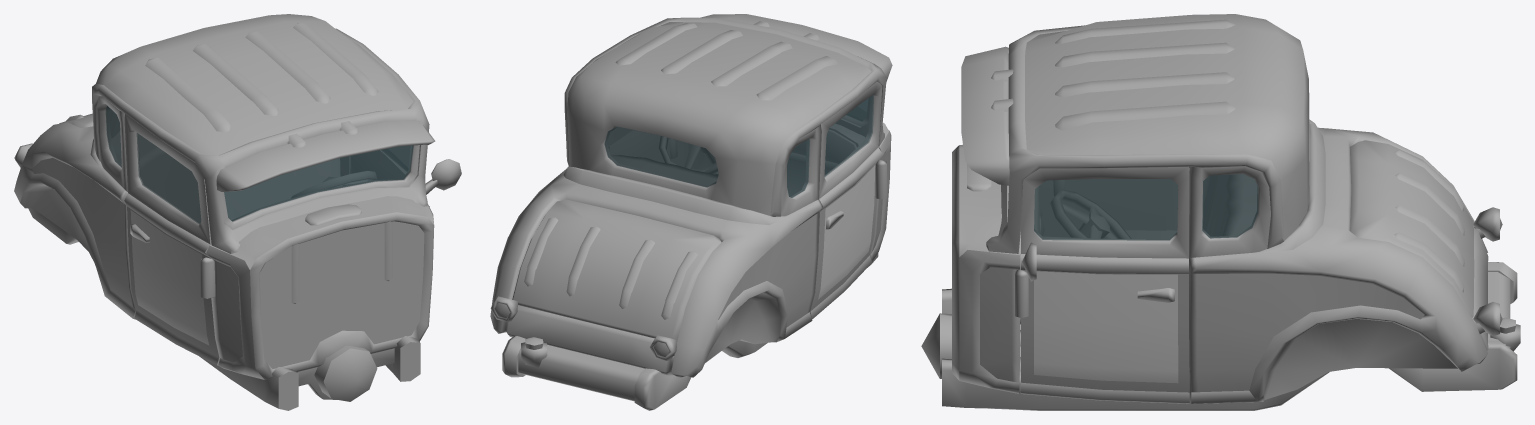
Rendered from Body_Hotster.fbx.
3 views of the same model, side by side, from view 1: azimuth 30°, elevation 25°; view 2: azimuth 150°, elevation 25°; view 3: azimuth 270°, elevation 25° (orthographic). The views are drawn at different scales.
Visible parts, largest first — view 1: Hotster_Body_Mesh, Hotster_Roof_Mesh, Hotster_Roof_Windows_Mesh, Hotster_Roof_Cap_Mesh, Hotster_Door_Right_Decal_Mesh, Hotster_Door_Right_Bottom_Mesh, Hotster_Door_Right_Top_Mesh, Hotster_Door_Right_Window_Mesh, Hotster_Door_Left_Bottom_Mesh, Body_SteerWheel_Mesh, Hotster_Door_Left_Top_Mesh; view 2: Hotster_Body_Mesh, Hotster_Roof_Mesh, Hotster_Roof_Windows_Mesh, Hotster_Door_Right_Decal_Mesh, Hotster_Door_Right_Bottom_Mesh, Hotster_Door_Right_Top_Mesh, Hotster_Door_Right_Window_Mesh, Hotster_Roof_Cap_Mesh, Hotster_Door_Left_Bottom_Mesh, Body_SteerWheel_Mesh; view 3: Hotster_Body_Mesh, Hotster_Roof_Mesh, Hotster_Door_Left_Decal_Mesh, Hotster_Door_Left_Bottom_Mesh, Hotster_Door_Left_Window_Mesh, Hotster_Door_Left_Top_Mesh, Hotster_Roof_Cap_Mesh, Hotster_Door_Right_Bottom_Mesh, Hotster_Roof_Windows_Mesh, Body_SteerWheel_Mesh.
Part boxes in pixels (left/top/right/bottom): Hotster_Body_Mesh: left=14, top=113, right=434, bottom=410; Hotster_Roof_Mesh: left=92, top=14, right=429, bottom=253; Hotster_Roof_Windows_Mesh: left=105, top=105, right=413, bottom=221; Hotster_Roof_Cap_Mesh: left=216, top=120, right=435, bottom=191; Hotster_Door_Right_Decal_Mesh: left=130, top=210, right=209, bottom=345; Hotster_Door_Right_Bottom_Mesh: left=124, top=193, right=219, bottom=365; Hotster_Door_Right_Top_Mesh: left=124, top=114, right=211, bottom=244; Hotster_Door_Right_Window_Mesh: left=136, top=133, right=201, bottom=224; Hotster_Door_Left_Bottom_Mesh: left=350, top=153, right=461, bottom=194; Body_SteerWheel_Mesh: left=291, top=171, right=376, bottom=197; Hotster_Door_Left_Top_Mesh: left=368, top=150, right=406, bottom=178; Hotster_Body_Mesh: left=490, top=122, right=891, bottom=410; Hotster_Roof_Mesh: left=564, top=17, right=886, bottom=216; Hotster_Roof_Windows_Mesh: left=604, top=99, right=867, bottom=197; Hotster_Door_Right_Decal_Mesh: left=818, top=165, right=875, bottom=299; Hotster_Door_Right_Bottom_Mesh: left=810, top=147, right=883, bottom=319; Hotster_Door_Right_Top_Mesh: left=818, top=81, right=882, bottom=199; Hotster_Door_Right_Window_Mesh: left=824, top=95, right=873, bottom=177; Hotster_Roof_Cap_Mesh: left=699, top=14, right=892, bottom=81; Hotster_Door_Left_Bottom_Mesh: left=609, top=130, right=688, bottom=166; Body_SteerWheel_Mesh: left=659, top=136, right=717, bottom=173; Hotster_Body_Mesh: left=921, top=119, right=1520, bottom=410; Hotster_Roof_Mesh: left=986, top=14, right=1309, bottom=257; Hotster_Door_Left_Decal_Mesh: left=1034, top=271, right=1178, bottom=383; Hotster_Door_Left_Bottom_Mesh: left=1021, top=242, right=1189, bottom=403; Hotster_Door_Left_Window_Mesh: left=1034, top=179, right=1178, bottom=240; Hotster_Door_Left_Top_Mesh: left=1021, top=166, right=1189, bottom=258; Hotster_Roof_Cap_Mesh: left=961, top=46, right=1013, bottom=185; Hotster_Door_Right_Bottom_Mesh: left=1040, top=179, right=1177, bottom=238; Hotster_Roof_Windows_Mesh: left=1202, top=174, right=1258, bottom=238; Body_SteerWheel_Mesh: left=1020, top=189, right=1130, bottom=324.
Size of the model in its own units: 172 by 168 by 282.
